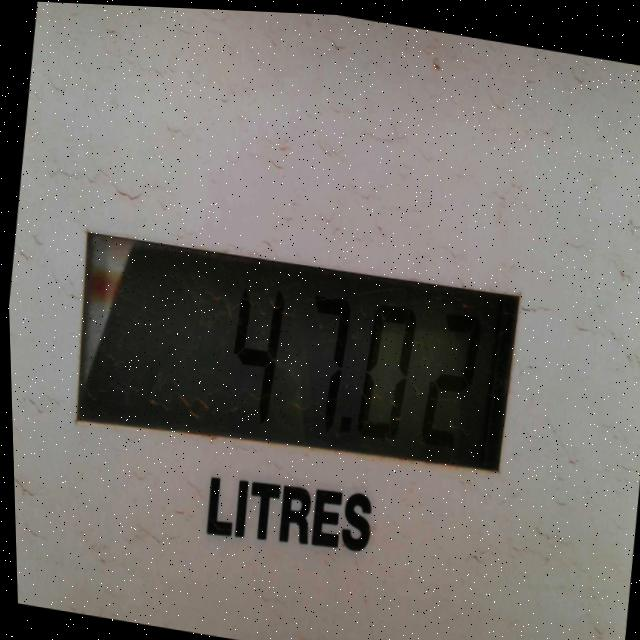.: (338, 408, 350, 429)
0: (348, 297, 414, 438)
2: (418, 302, 481, 445)
4: (220, 285, 286, 425)
7: (296, 289, 352, 433)
